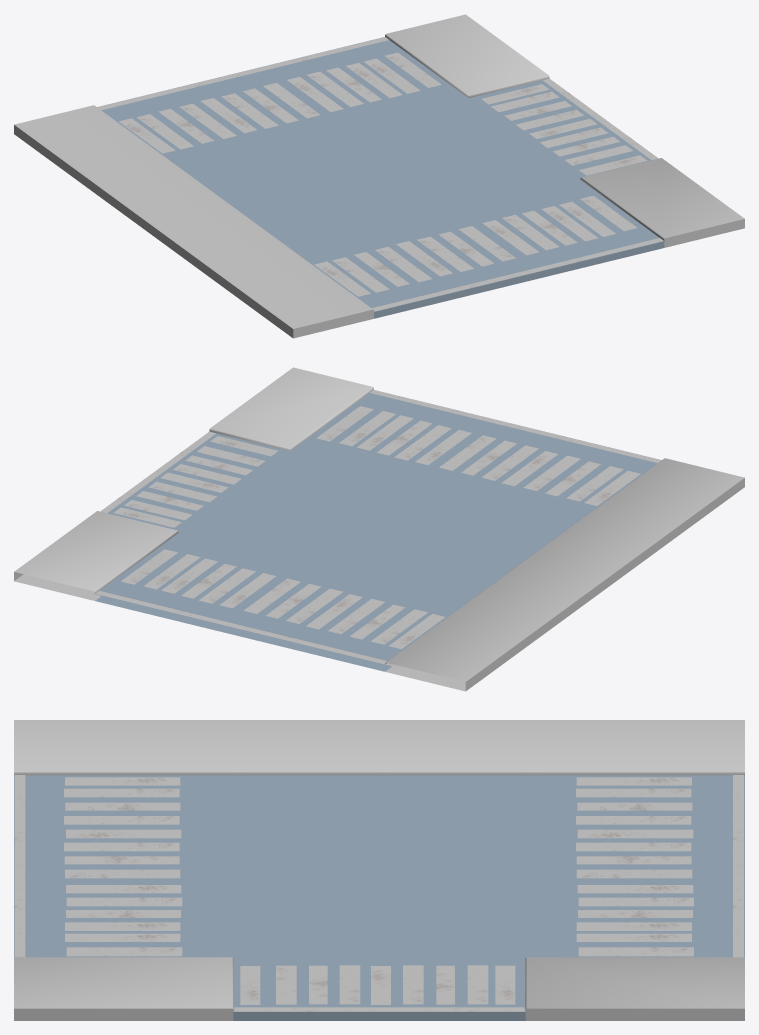
File: Road_006.fbx
3 views of the same model, one above another, from view 1: azimuth 30°, elevation 25°; view 2: azimuth 150°, elevation 25°; view 3: azimuth 270°, elevation 25° (orthographic). The views are drawn at different scales.
Parts seen in each view (by area): view 1: Road_006; view 2: Road_006; view 3: Road_006.
Boxes of the visible parts, x1,y1,x2,y2 form: Road_006: (14,14,744,338); Road_006: (14,367,744,691); Road_006: (14,720,744,1020).
Size of the model in its own units: 2802 by 56.17 by 3000.
